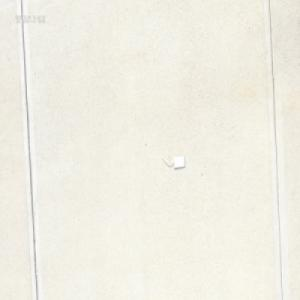LuggageTag: (160, 153, 185, 169)
